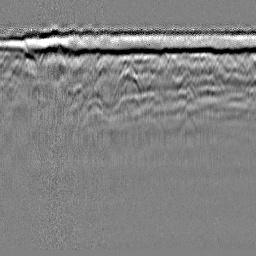cavity: (112, 65, 143, 102)
